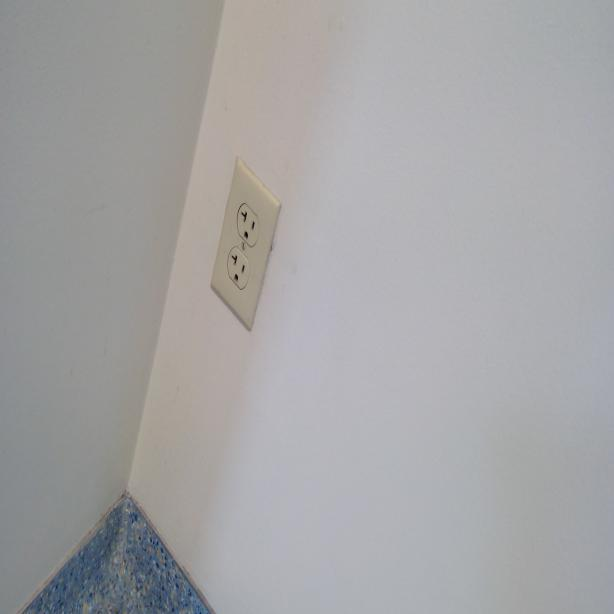typeb: (236, 203, 260, 246), (229, 250, 251, 288)
